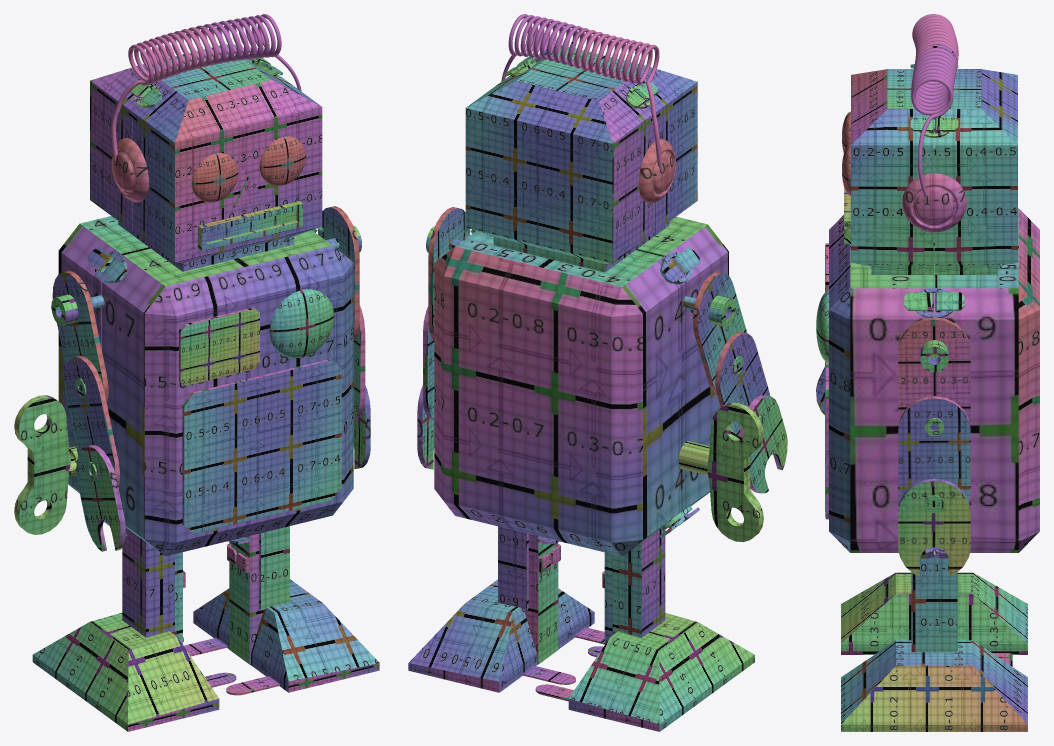
Rendered from FBX_Robot_UVs.fbx.
3 renders of one model, left to right at view 1: azimuth 30°, elevation 25°; view 2: azimuth 150°, elevation 25°; view 3: azimuth 270°, elevation 25°, orthographic.
Visible parts, largest first — view 1: pCube18, pCube17, polySurface6, polySurface7, pCylinder28, pCylinder19, pCylinder16, pCylinder18, pCylinder29, pCylinder30, pCylinder11; view 2: pCube18, pCube17, polySurface6, polySurface7, pCylinder28, pCylinder19, pCylinder16, pCylinder18, pCylinder29, pCylinder30, pCylinder11; view 3: pCube18, pCube17, polySurface7, polySurface6, pCylinder30, pCylinder29, pCylinder11.
Boxes of the visible parts, x1,y1,x2,y2 form: pCube18: [58, 216, 353, 556]; pCube17: [90, 14, 322, 271]; polySurface6: [32, 528, 236, 731]; polySurface7: [184, 526, 379, 695]; pCylinder28: [14, 395, 77, 534]; pCylinder19: [51, 270, 108, 402]; pCylinder16: [64, 355, 119, 487]; pCylinder18: [76, 445, 125, 551]; pCylinder29: [318, 206, 361, 340]; pCylinder30: [353, 305, 365, 419]; pCylinder11: [353, 385, 370, 469]; pCube18: [434, 216, 728, 556]; pCube17: [465, 14, 697, 272]; polySurface6: [535, 528, 754, 731]; polySurface7: [408, 526, 604, 692]; pCylinder28: [678, 402, 763, 541]; pCylinder19: [682, 272, 747, 393]; pCylinder16: [715, 332, 769, 435]; pCylinder18: [739, 395, 787, 493]; pCylinder29: [426, 207, 470, 340]; pCylinder30: [423, 306, 434, 420]; pCylinder11: [417, 385, 434, 469]; pCube18: [816, 208, 1039, 558]; pCube17: [842, 14, 1017, 274]; polySurface7: [841, 547, 1027, 731]; polySurface6: [841, 572, 1027, 666]; pCylinder30: [898, 396, 970, 513]; pCylinder29: [898, 317, 970, 435]; pCylinder11: [898, 478, 970, 576].
Size of the model in its own units: 11.53 by 21.09 by 6.83.
Materials: 4 (4 with a texture image).
